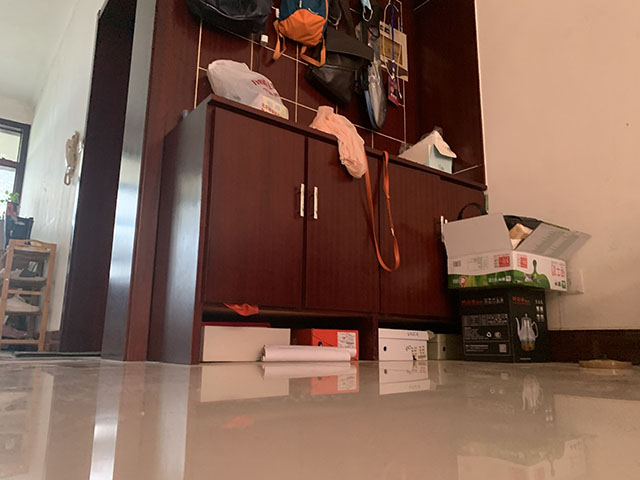cabinet: (147, 99, 502, 366)
carpet: (11, 349, 101, 359)
